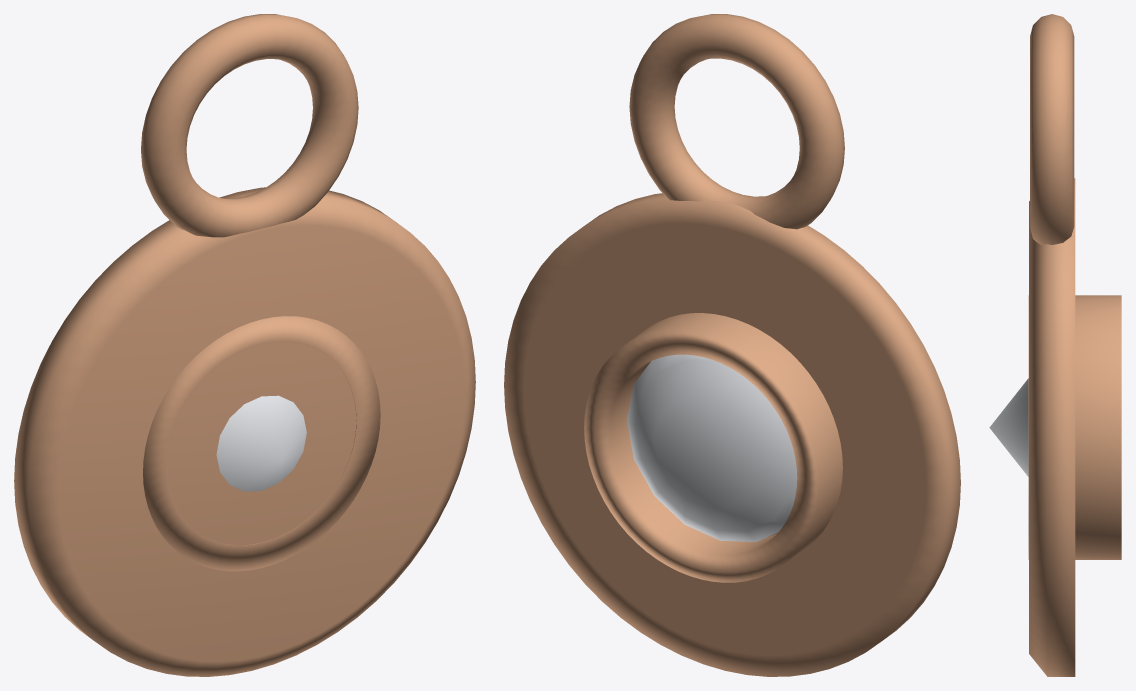
File: pendant.glb
The picture shows the model from 3 angles, left to right: view 1: azimuth 30°, elevation 25°; view 2: azimuth 150°, elevation 25°; view 3: azimuth 270°, elevation 25°; orthographic projection. The views are drawn at different scales.
Parts seen in each view (by area): view 1: Disc ⌀26 mm, Bail, Bezel ⌀13.8 mm, Diamond (brilliant) ⌀11 mm; view 2: Disc ⌀26 mm, Bezel ⌀13.8 mm, Diamond (brilliant) ⌀11 mm, Bail; view 3: Disc ⌀26 mm, Bezel ⌀13.8 mm, Bail, Diamond (brilliant) ⌀11 mm.
Part boxes in pixels (x1,y1,x2,y2): Disc ⌀26 mm: (14, 187, 475, 676); Bail: (141, 14, 358, 237); Bezel ⌀13.8 mm: (143, 316, 380, 571); Diamond (brilliant) ⌀11 mm: (216, 395, 306, 491); Disc ⌀26 mm: (504, 193, 960, 676); Bezel ⌀13.8 mm: (584, 313, 842, 582); Diamond (brilliant) ⌀11 mm: (627, 354, 797, 541); Bail: (629, 14, 844, 229); Disc ⌀26 mm: (1029, 178, 1075, 676); Bezel ⌀13.8 mm: (1028, 295, 1121, 559); Bail: (1030, 14, 1074, 245); Diamond (brilliant) ⌀11 mm: (989, 378, 1028, 476).
Size of the model in its own units: 0.026 by 0.0361 by 0.00689.
